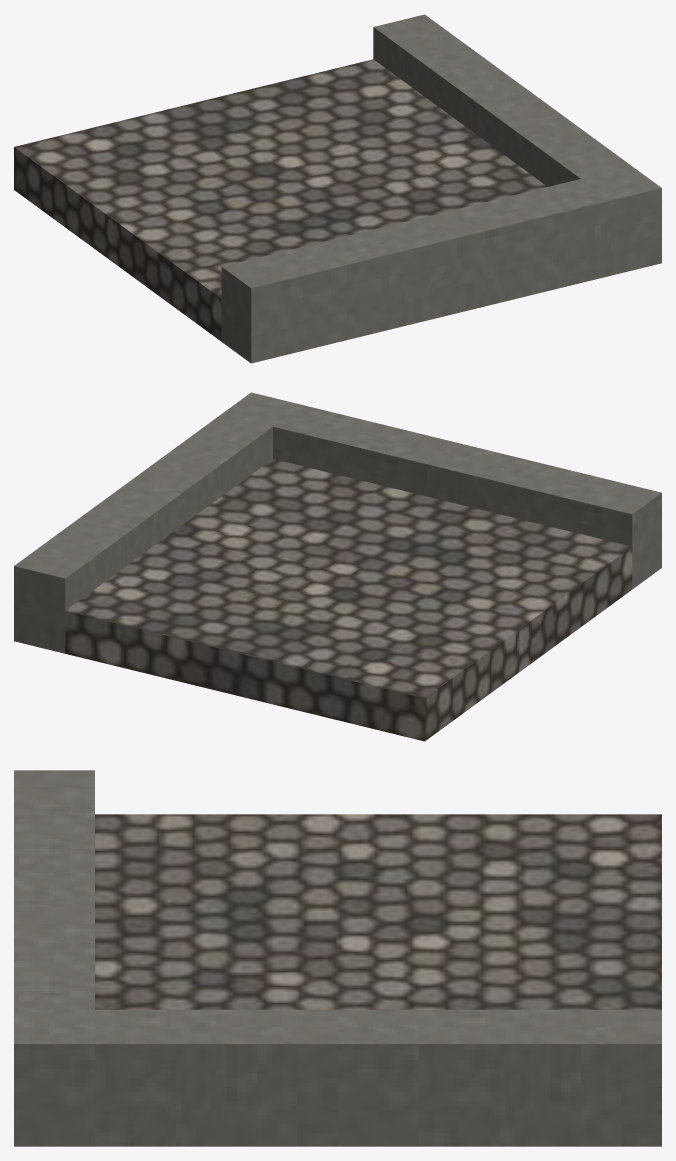
File: road-corner.lod2.glb
3 views of the same model, one above another, from view 1: azimuth 30°, elevation 25°; view 2: azimuth 150°, elevation 25°; view 3: azimuth 270°, elevation 25° (orthographic). The views are drawn at different scales.
Parts seen in each view (by area): view 1: RoadCorner_cobble, RoadCorner_granite; view 2: RoadCorner_cobble, RoadCorner_granite; view 3: RoadCorner_cobble, RoadCorner_granite.
Part boxes in pixels (x1,y1,x2,y2): RoadCorner_cobble: [14, 59, 547, 341]; RoadCorner_granite: [221, 14, 661, 363]; RoadCorner_cobble: [65, 459, 632, 741]; RoadCorner_granite: [14, 392, 661, 653]; RoadCorner_cobble: [95, 814, 661, 1009]; RoadCorner_granite: [14, 770, 661, 1146].
Size of the model in its own units: 2 by 0.35 by 2.
Materials: 2 (2 with a texture image).
